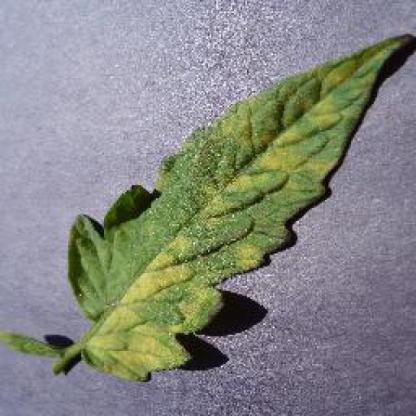Tomato_Leaf_Mold: (70, 36, 414, 380)
